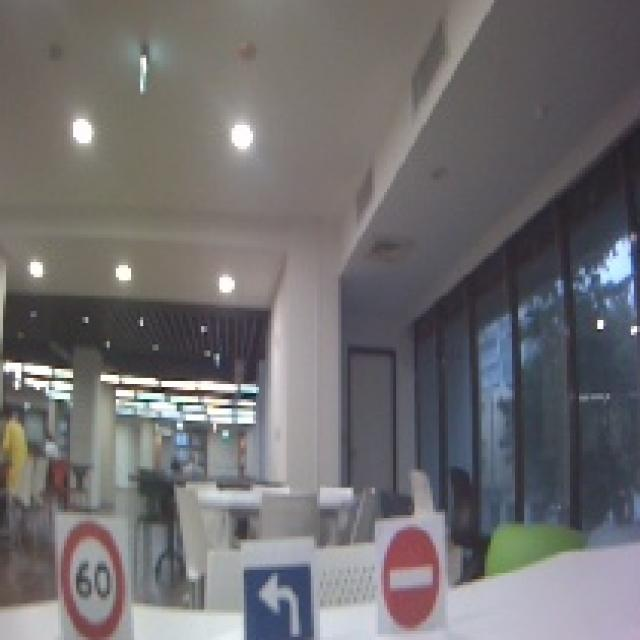DoNotEnterSign: (380, 527, 444, 635)
